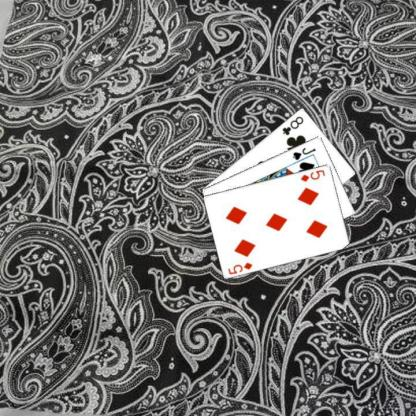5D: (298, 167, 327, 183), (225, 260, 254, 276)
8C: (280, 113, 304, 136)
JS: (290, 145, 317, 162)
